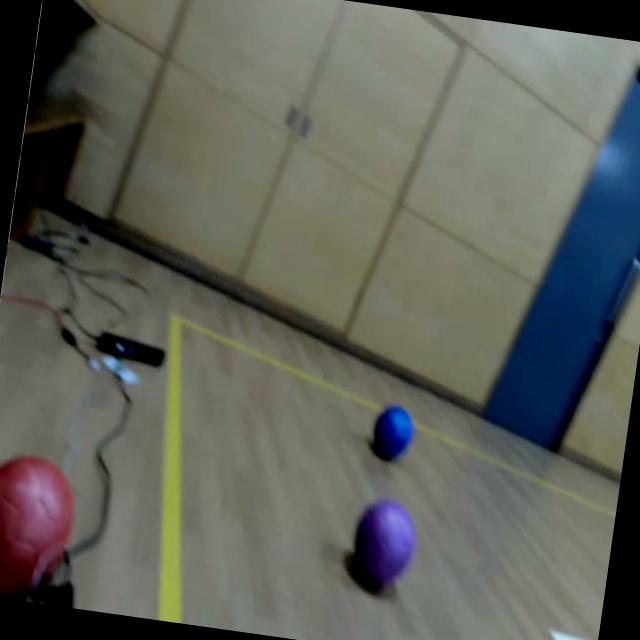blue_ball: (368, 402, 418, 466)
purple_ball: (345, 494, 422, 594)
red_ball: (0, 446, 82, 607)
